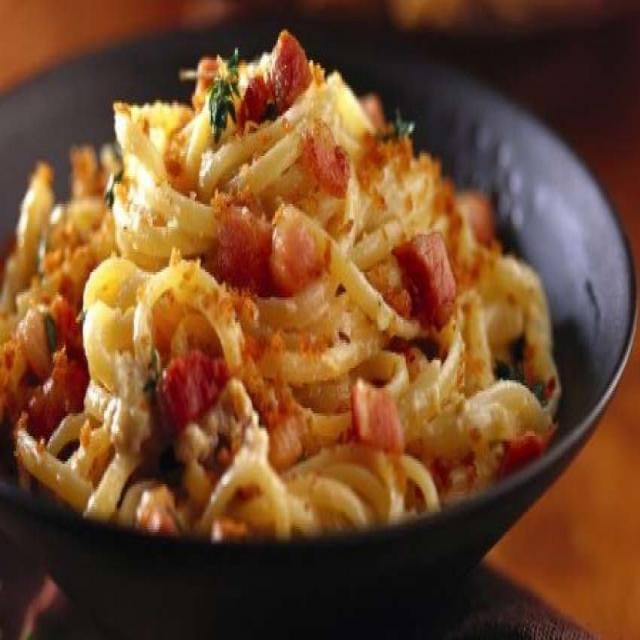Pasta with carbonara sauce: (14, 36, 554, 532)
